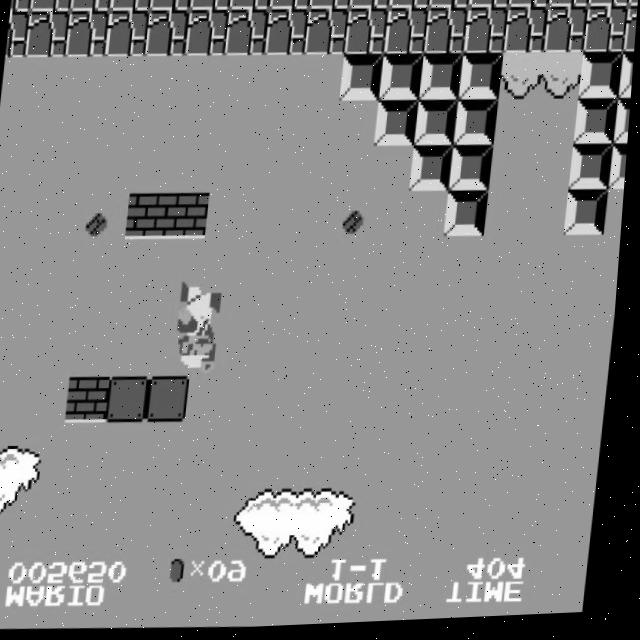1- brick_block: (128, 193, 173, 242), (168, 193, 213, 242), (71, 377, 116, 424)
17- undestructible_block: (25, 10, 71, 59), (64, 10, 110, 59), (224, 10, 270, 59), (264, 10, 310, 59), (104, 10, 150, 58), (144, 10, 190, 58), (184, 10, 230, 58), (304, 10, 350, 58), (344, 10, 390, 58), (384, 10, 430, 58), (543, 10, 589, 58), (583, 10, 629, 58), (424, 10, 469, 59), (464, 10, 509, 59), (504, 10, 549, 58), (6, 10, 30, 58), (623, 11, 638, 58), (29, 0, 72, 13), (69, 0, 112, 13), (149, 0, 192, 13), (229, 0, 272, 13), (269, 0, 312, 13), (348, 0, 391, 13), (388, 0, 431, 13), (428, 0, 471, 13), (468, 0, 511, 13), (508, 0, 551, 13), (548, 0, 591, 13), (588, 0, 631, 13), (109, 0, 152, 12), (189, 0, 232, 12), (309, 0, 352, 12), (9, 0, 31, 13), (628, 0, 639, 12)
3- empty_block: (150, 377, 196, 424), (111, 377, 156, 424)
4- fire_mario: (175, 281, 227, 378)
9- hard_block: (455, 101, 501, 150), (566, 193, 612, 242), (579, 56, 625, 105), (375, 102, 421, 150), (415, 102, 461, 150), (459, 56, 505, 104), (570, 148, 616, 196), (380, 56, 425, 105), (420, 56, 465, 105), (340, 56, 385, 104), (411, 148, 456, 196), (447, 193, 492, 241), (575, 102, 620, 150), (451, 148, 496, 195), (610, 149, 630, 195), (615, 102, 633, 149), (620, 57, 635, 104)
